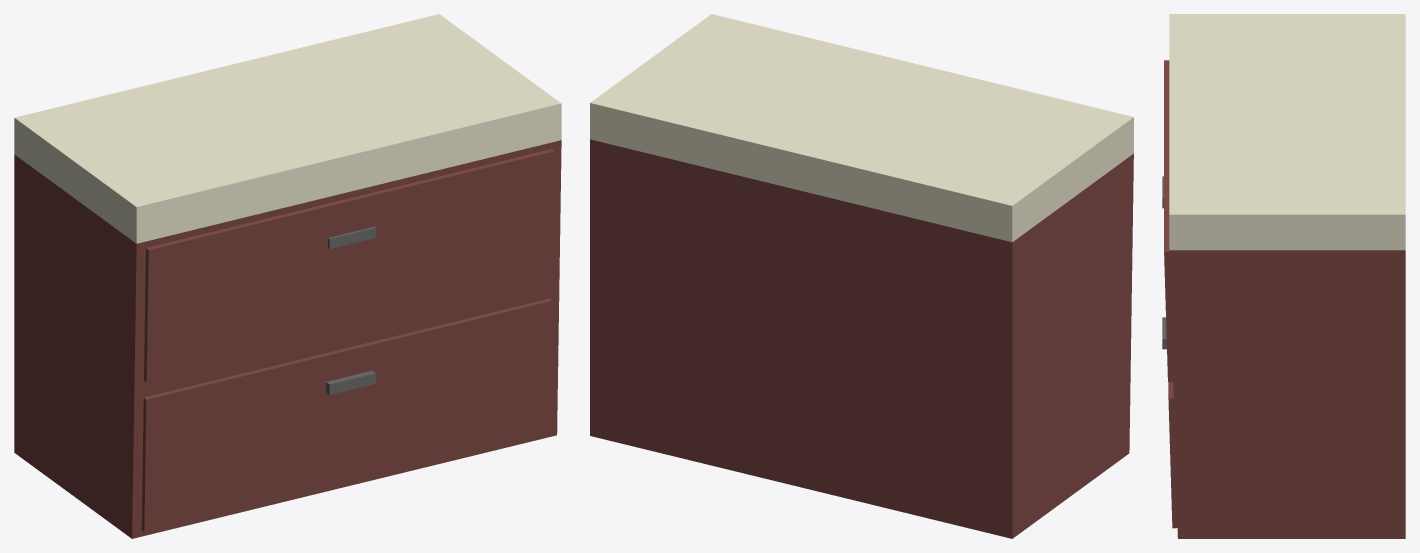
File: KitchenFurniture.glb
The picture shows the model from 3 angles, left to right: view 1: azimuth 30°, elevation 25°; view 2: azimuth 150°, elevation 25°; view 3: azimuth 270°, elevation 25°; orthographic projection. The views are drawn at different scales.
Parts seen in each view (by area): view 1: Kitchen_Furniture; view 2: Kitchen_Furniture; view 3: Kitchen_Furniture.
Part boxes in pixels (x1,y1,x2,y2): Kitchen_Furniture: (14,14,561,538); Kitchen_Furniture: (590,14,1133,538); Kitchen_Furniture: (1162,14,1405,538).
Size of the model in its own units: 0.7978 by 0.6011 by 0.4093.
